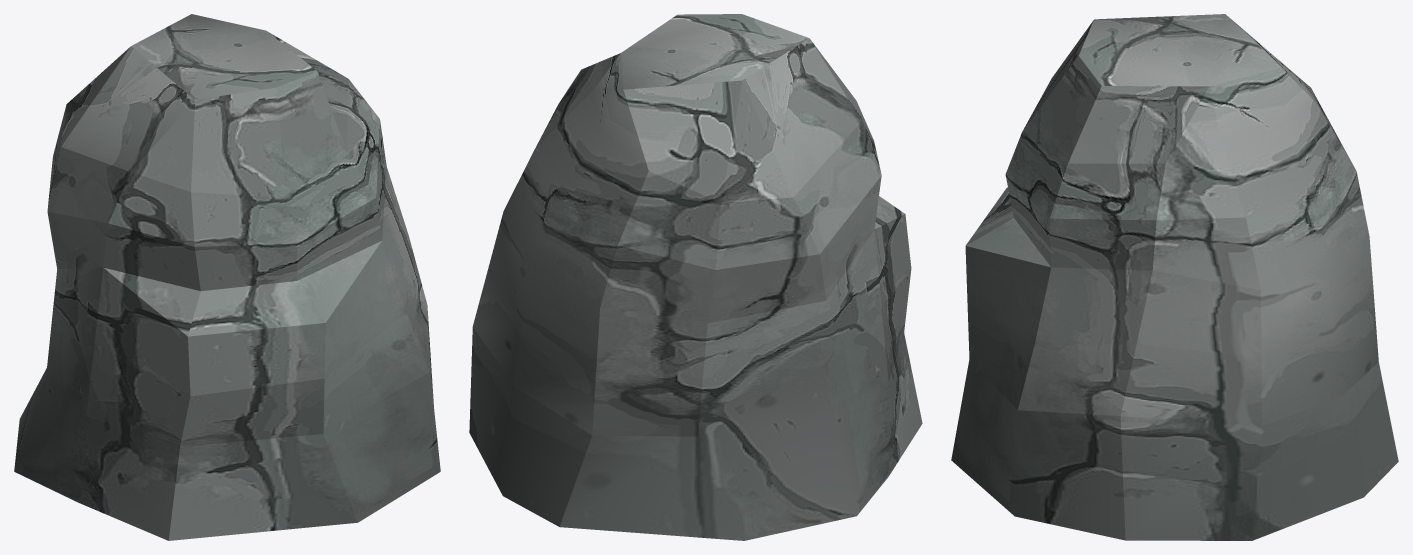
File: desert_stone03.FBX
The picture shows the model from 3 angles, left to right: view 1: azimuth 30°, elevation 25°; view 2: azimuth 150°, elevation 25°; view 3: azimuth 270°, elevation 25°; orthographic projection.
Visible parts, largest first — view 1: Line010; view 2: Line010; view 3: Line010.
Boxes of the visible parts, x1,y1,x2,y2 form: Line010: [14, 14, 440, 540]; Line010: [469, 14, 922, 540]; Line010: [951, 14, 1398, 540].
Size of the model in its own units: 36.9 by 38.05 by 38.42.
